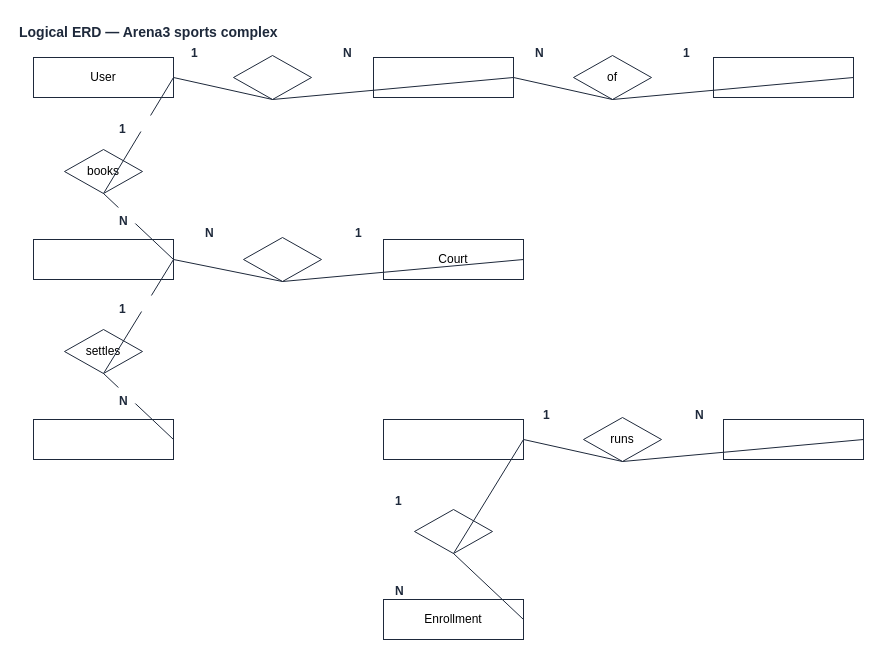
Image size: 882x657. Some labels were removed from this diagram. The box of each missing label's shape, as (x1, y1, x2, y2) in pixels:
Class: (382, 418, 524, 460)
CourtBooking: (32, 238, 174, 280)
holds: (232, 54, 312, 100)
lists: (414, 508, 492, 554)
on: (242, 236, 322, 282)
Payment: (32, 418, 174, 460)
Plan: (712, 56, 854, 98)
Session: (722, 418, 864, 460)
Subscription: (372, 56, 514, 98)
